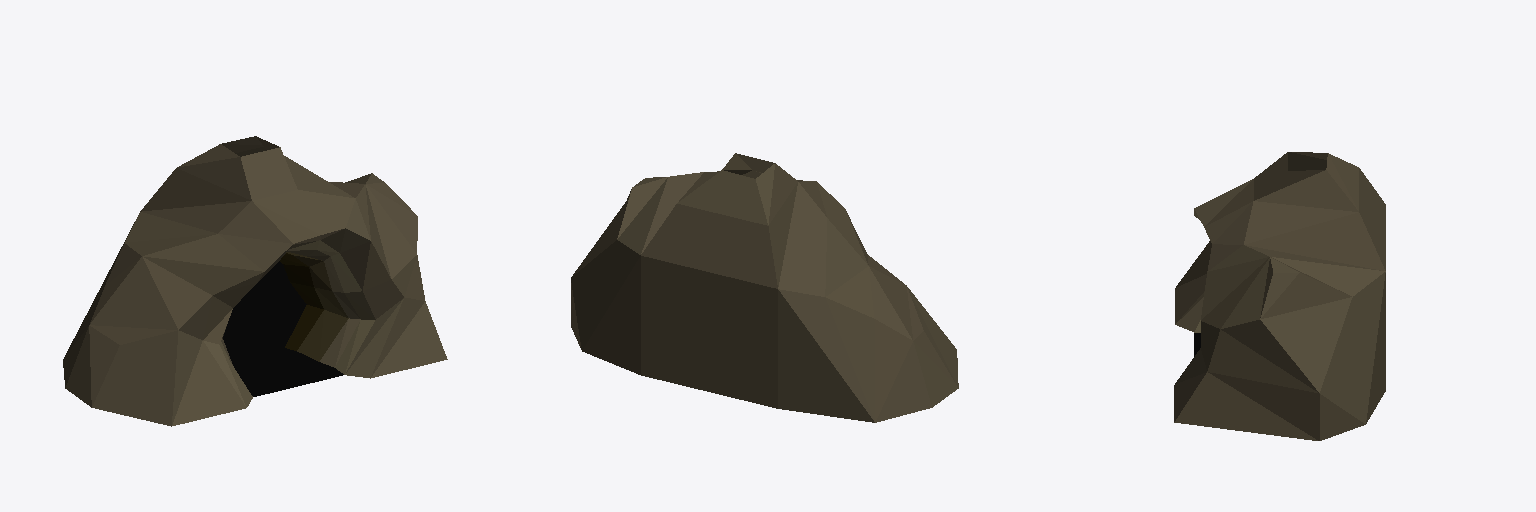
Rendered from cave_entrance.obj.
3 views of the same model, side by side, from view 1: azimuth 30°, elevation 25°; view 2: azimuth 150°, elevation 25°; view 3: azimuth 270°, elevation 25° (orthographic).
Size of the model in its own units: 496 by 264 by 256.